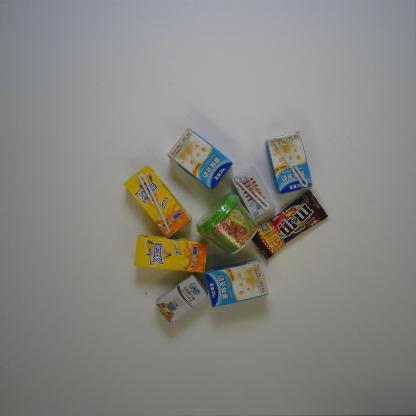Chocolate: (248, 189, 330, 262)
Drink: (122, 164, 194, 240), (133, 232, 211, 274)
Instant Drink: (192, 190, 260, 258)
Milk: (166, 127, 234, 190), (204, 257, 270, 309), (264, 130, 314, 198), (152, 273, 210, 326), (230, 164, 276, 219)
